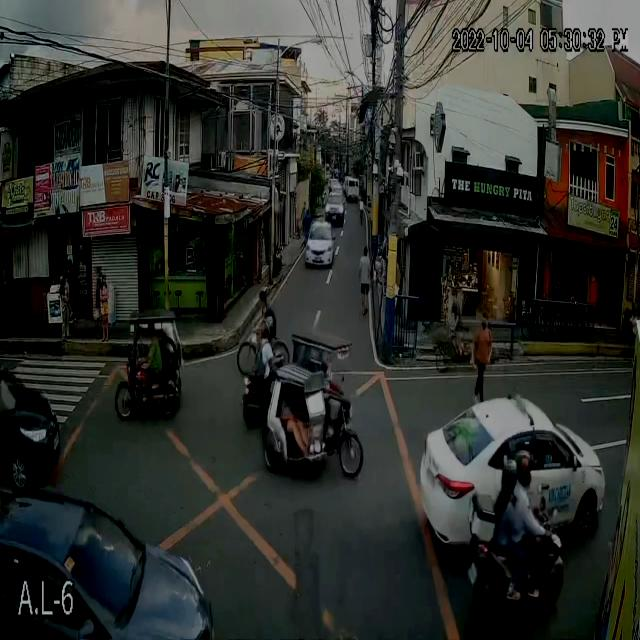Full-Faced: (520, 450, 534, 497), (260, 324, 276, 346)
Half-Faced: (498, 454, 517, 494)
Invalid: (260, 289, 274, 324)
